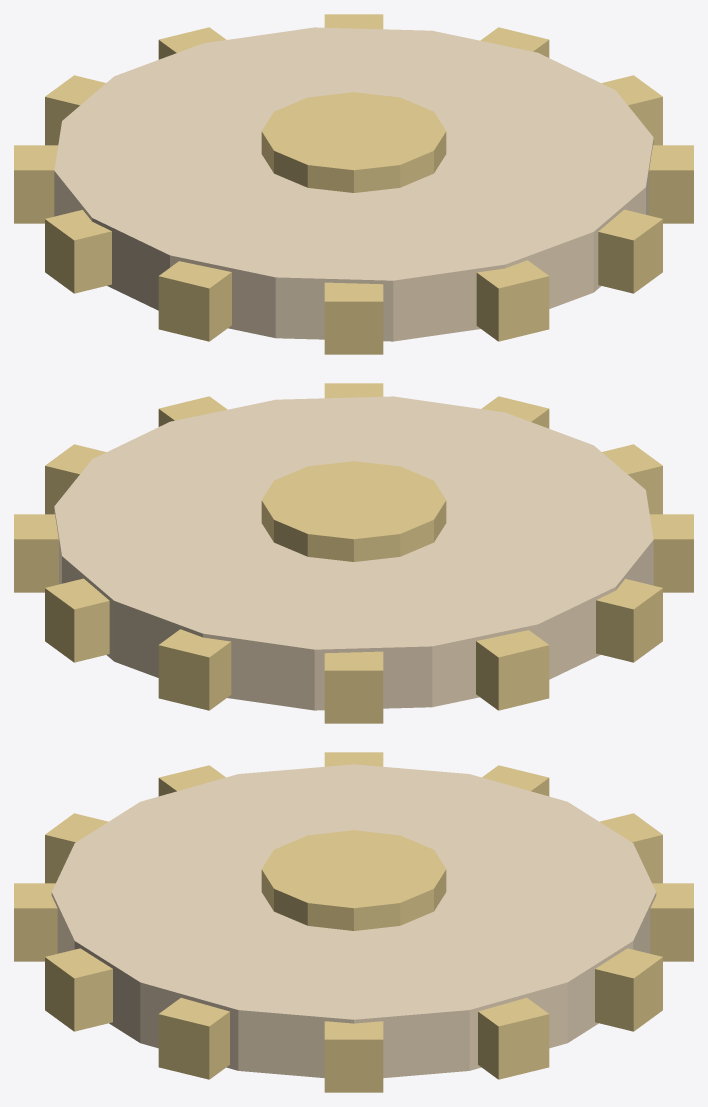
File: engrenage.glb
3 views of the same model, one above another, from view 1: azimuth 30°, elevation 25°; view 2: azimuth 150°, elevation 25°; view 3: azimuth 270°, elevation 25° (orthographic).
Parts seen in each view (by area): view 1: engrenage_disc, engrenage_hub, engrenage_tooth_7, engrenage_tooth_9, engrenage_tooth_6, engrenage_tooth_10, engrenage_tooth_8, engrenage_tooth_11, engrenage_tooth_5, engrenage_tooth_4, engrenage_tooth_0, engrenage_tooth_1 (+2 smaller); view 2: engrenage_disc, engrenage_hub, engrenage_tooth_5, engrenage_tooth_3, engrenage_tooth_6, engrenage_tooth_2, engrenage_tooth_4, engrenage_tooth_1, engrenage_tooth_7, engrenage_tooth_8, engrenage_tooth_0, engrenage_tooth_11 (+2 smaller); view 3: engrenage_disc, engrenage_hub, engrenage_tooth_1, engrenage_tooth_11, engrenage_tooth_2, engrenage_tooth_10, engrenage_tooth_0, engrenage_tooth_3, engrenage_tooth_9, engrenage_tooth_4, engrenage_tooth_8, engrenage_tooth_5 (+2 smaller).
Part boxes in pixels (box(x1,y1,x2,y2)): engrenage_disc: box(54, 27, 653, 341); engrenage_hub: box(261, 92, 446, 192); engrenage_tooth_7: box(158, 261, 231, 341); engrenage_tooth_9: box(476, 260, 549, 341); engrenage_tooth_6: box(45, 210, 111, 293); engrenage_tooth_10: box(598, 209, 662, 293); engrenage_tooth_8: box(324, 282, 383, 354); engrenage_tooth_11: box(649, 145, 693, 223); engrenage_tooth_5: box(14, 145, 58, 223); engrenage_tooth_4: box(45, 75, 105, 145); engrenage_tooth_0: box(601, 75, 662, 145); engrenage_tooth_1: box(480, 27, 549, 57); engrenage_disc: box(54, 396, 653, 710); engrenage_hub: box(261, 461, 446, 561); engrenage_tooth_5: box(476, 630, 549, 710); engrenage_tooth_3: box(158, 629, 231, 710); engrenage_tooth_6: box(596, 579, 662, 662); engrenage_tooth_2: box(45, 578, 109, 662); engrenage_tooth_4: box(324, 651, 383, 723); engrenage_tooth_1: box(14, 514, 58, 592); engrenage_tooth_7: box(649, 514, 693, 592); engrenage_tooth_8: box(602, 444, 662, 514); engrenage_tooth_0: box(45, 444, 106, 514); engrenage_tooth_11: box(158, 396, 227, 426); engrenage_disc: box(51, 764, 656, 1077); engrenage_hub: box(261, 830, 446, 930); engrenage_tooth_1: box(478, 997, 549, 1079); engrenage_tooth_11: box(158, 997, 229, 1079); engrenage_tooth_2: box(595, 948, 662, 1031); engrenage_tooth_10: box(45, 948, 112, 1031); engrenage_tooth_0: box(324, 1021, 383, 1092); engrenage_tooth_3: box(650, 883, 693, 961); engrenage_tooth_9: box(14, 883, 57, 961); engrenage_tooth_4: box(599, 813, 662, 883); engrenage_tooth_8: box(45, 813, 108, 883); engrenage_tooth_5: box(482, 765, 549, 796).
Bounding box in the file's own units: 1.62 × 0.22 × 1.62.
